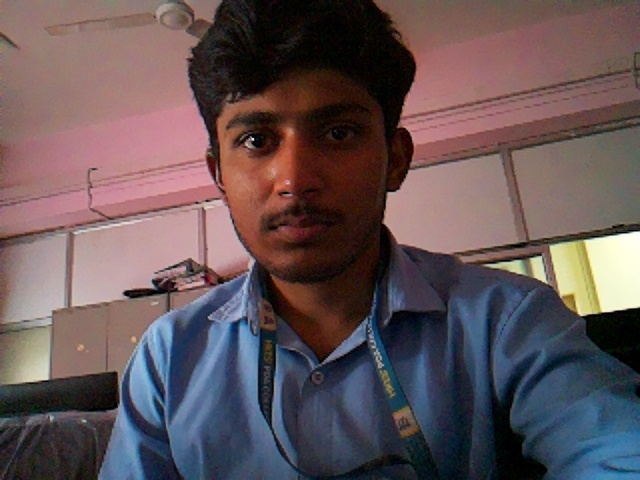Vaibhav: (188, 0, 417, 274)
